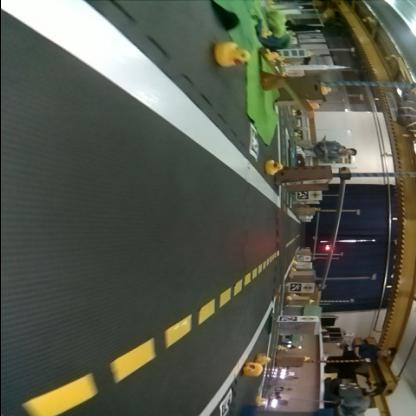Duckie: (214, 43, 250, 67), (266, 162, 283, 176), (244, 364, 262, 376), (256, 354, 271, 365)
Intersection sign: (310, 193, 318, 199)
QR code: (220, 390, 232, 416), (280, 316, 298, 322), (290, 284, 300, 292), (298, 194, 306, 199)
Signal sign: (300, 316, 316, 320), (303, 286, 313, 292)
Traffic light: (324, 248, 334, 252)
